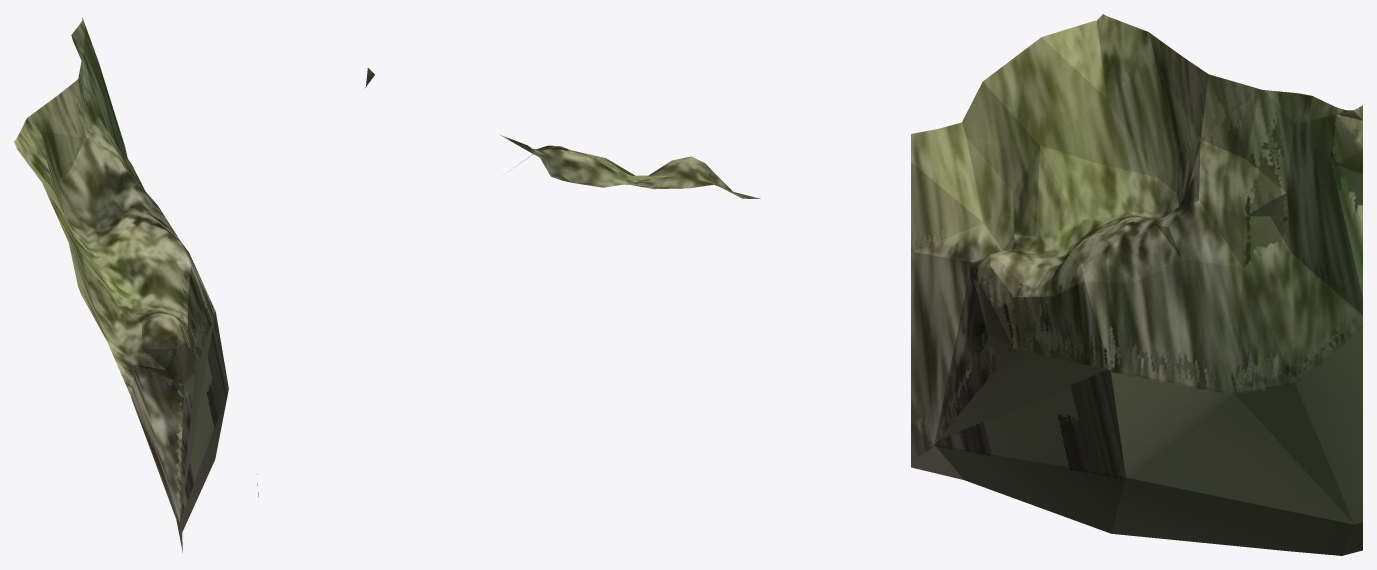
3 renders of one model, left to right at view 1: azimuth 30°, elevation 25°; view 2: azimuth 150°, elevation 25°; view 3: azimuth 270°, elevation 25°, orthographic. The views are drawn at different scales.
Bounding box in the file's own units: 2.16 × 2.95 × 2.95.
Materials: 3 (3 with a texture image).
